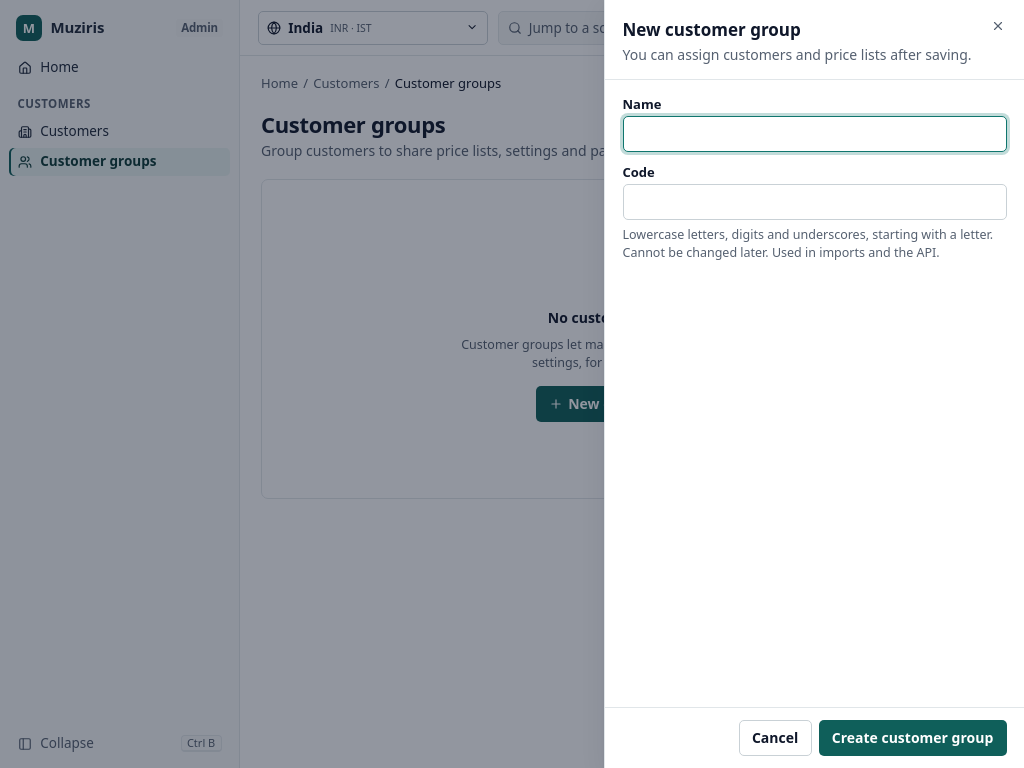
customer group form › derives the code from the name and shows customer_group_code_taken under the code
The width and height of the screenshot is (1024, 768).
Type "Key accounts (West)" into the field labelled "Name".
click(814, 134); type("Key accounts (West)")  # box [622,116,1006,152]
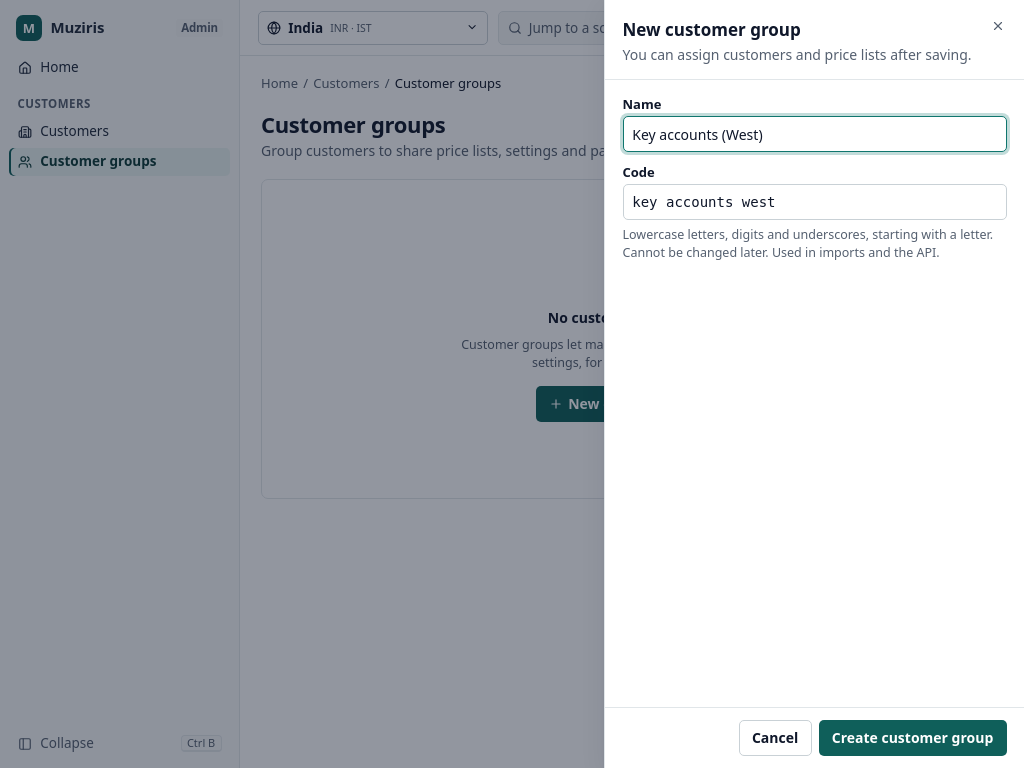
Expected: the field labelled "Code" holds "key_accounts_west", [622,184,1006,220]
Click the button "Create customer group".
click(912, 738)  # box [818,720,1006,756]
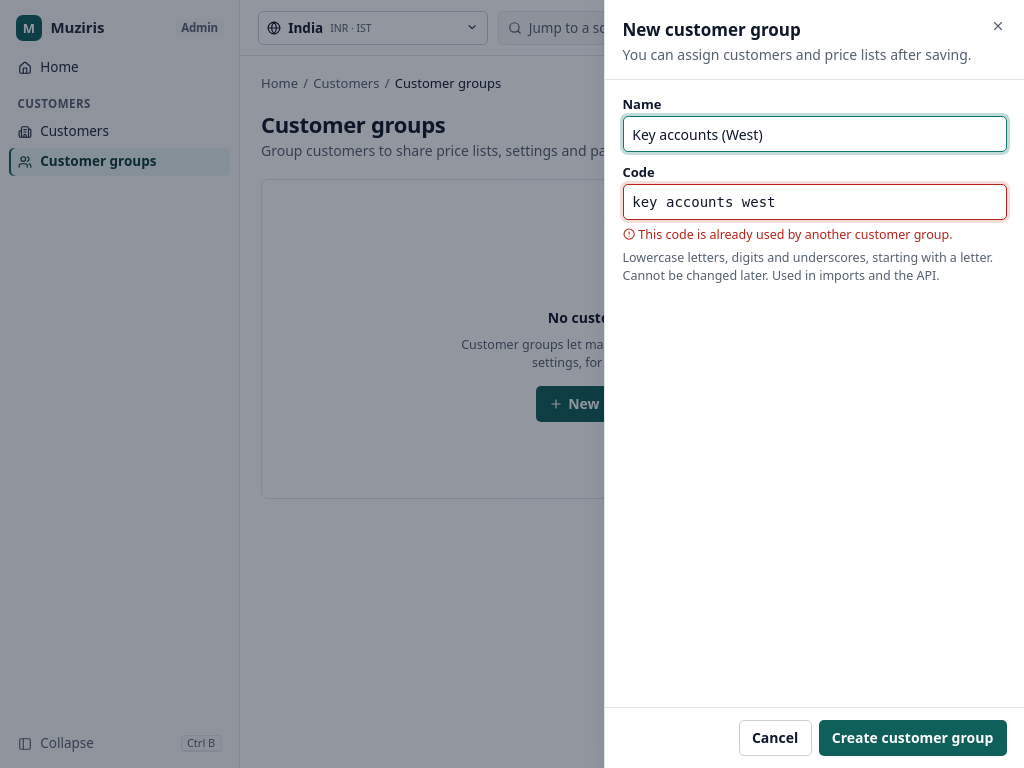
Expected: the text "This code is already used by another customer group." is shown, [622,226,1006,244]
